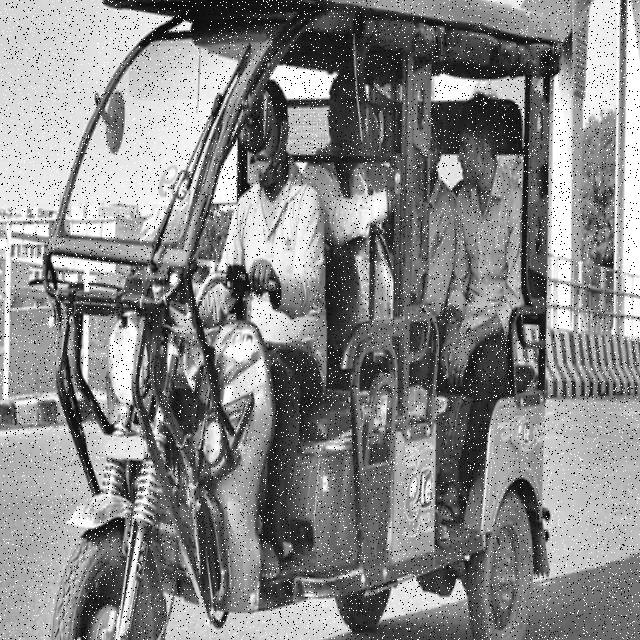Toto: (48, 0, 562, 640)
